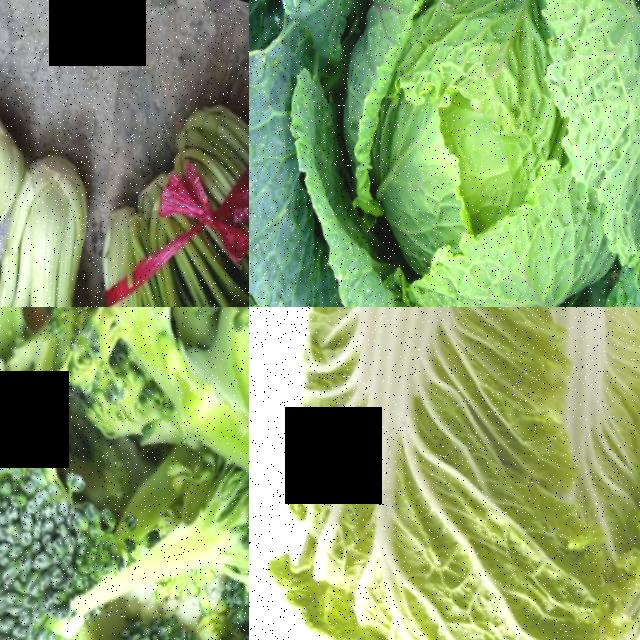bok choy: (0, 124, 124, 307)
broccoli: (7, 307, 249, 487), (0, 377, 150, 640), (67, 578, 236, 640)
cabbage: (249, 307, 640, 640), (249, 0, 640, 307)
